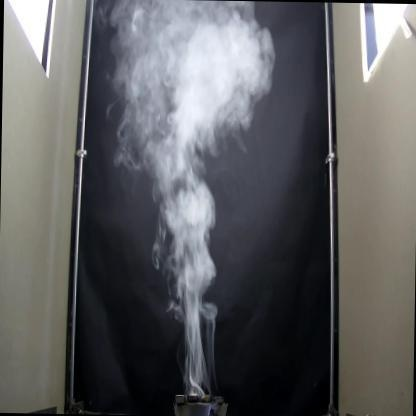smoke: (102, 0, 273, 380)
